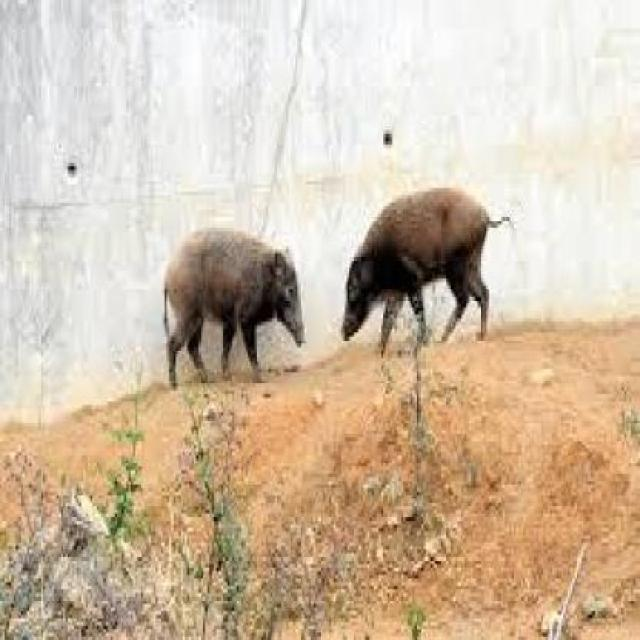wildboar: (334, 178, 518, 359), (156, 219, 312, 393)
